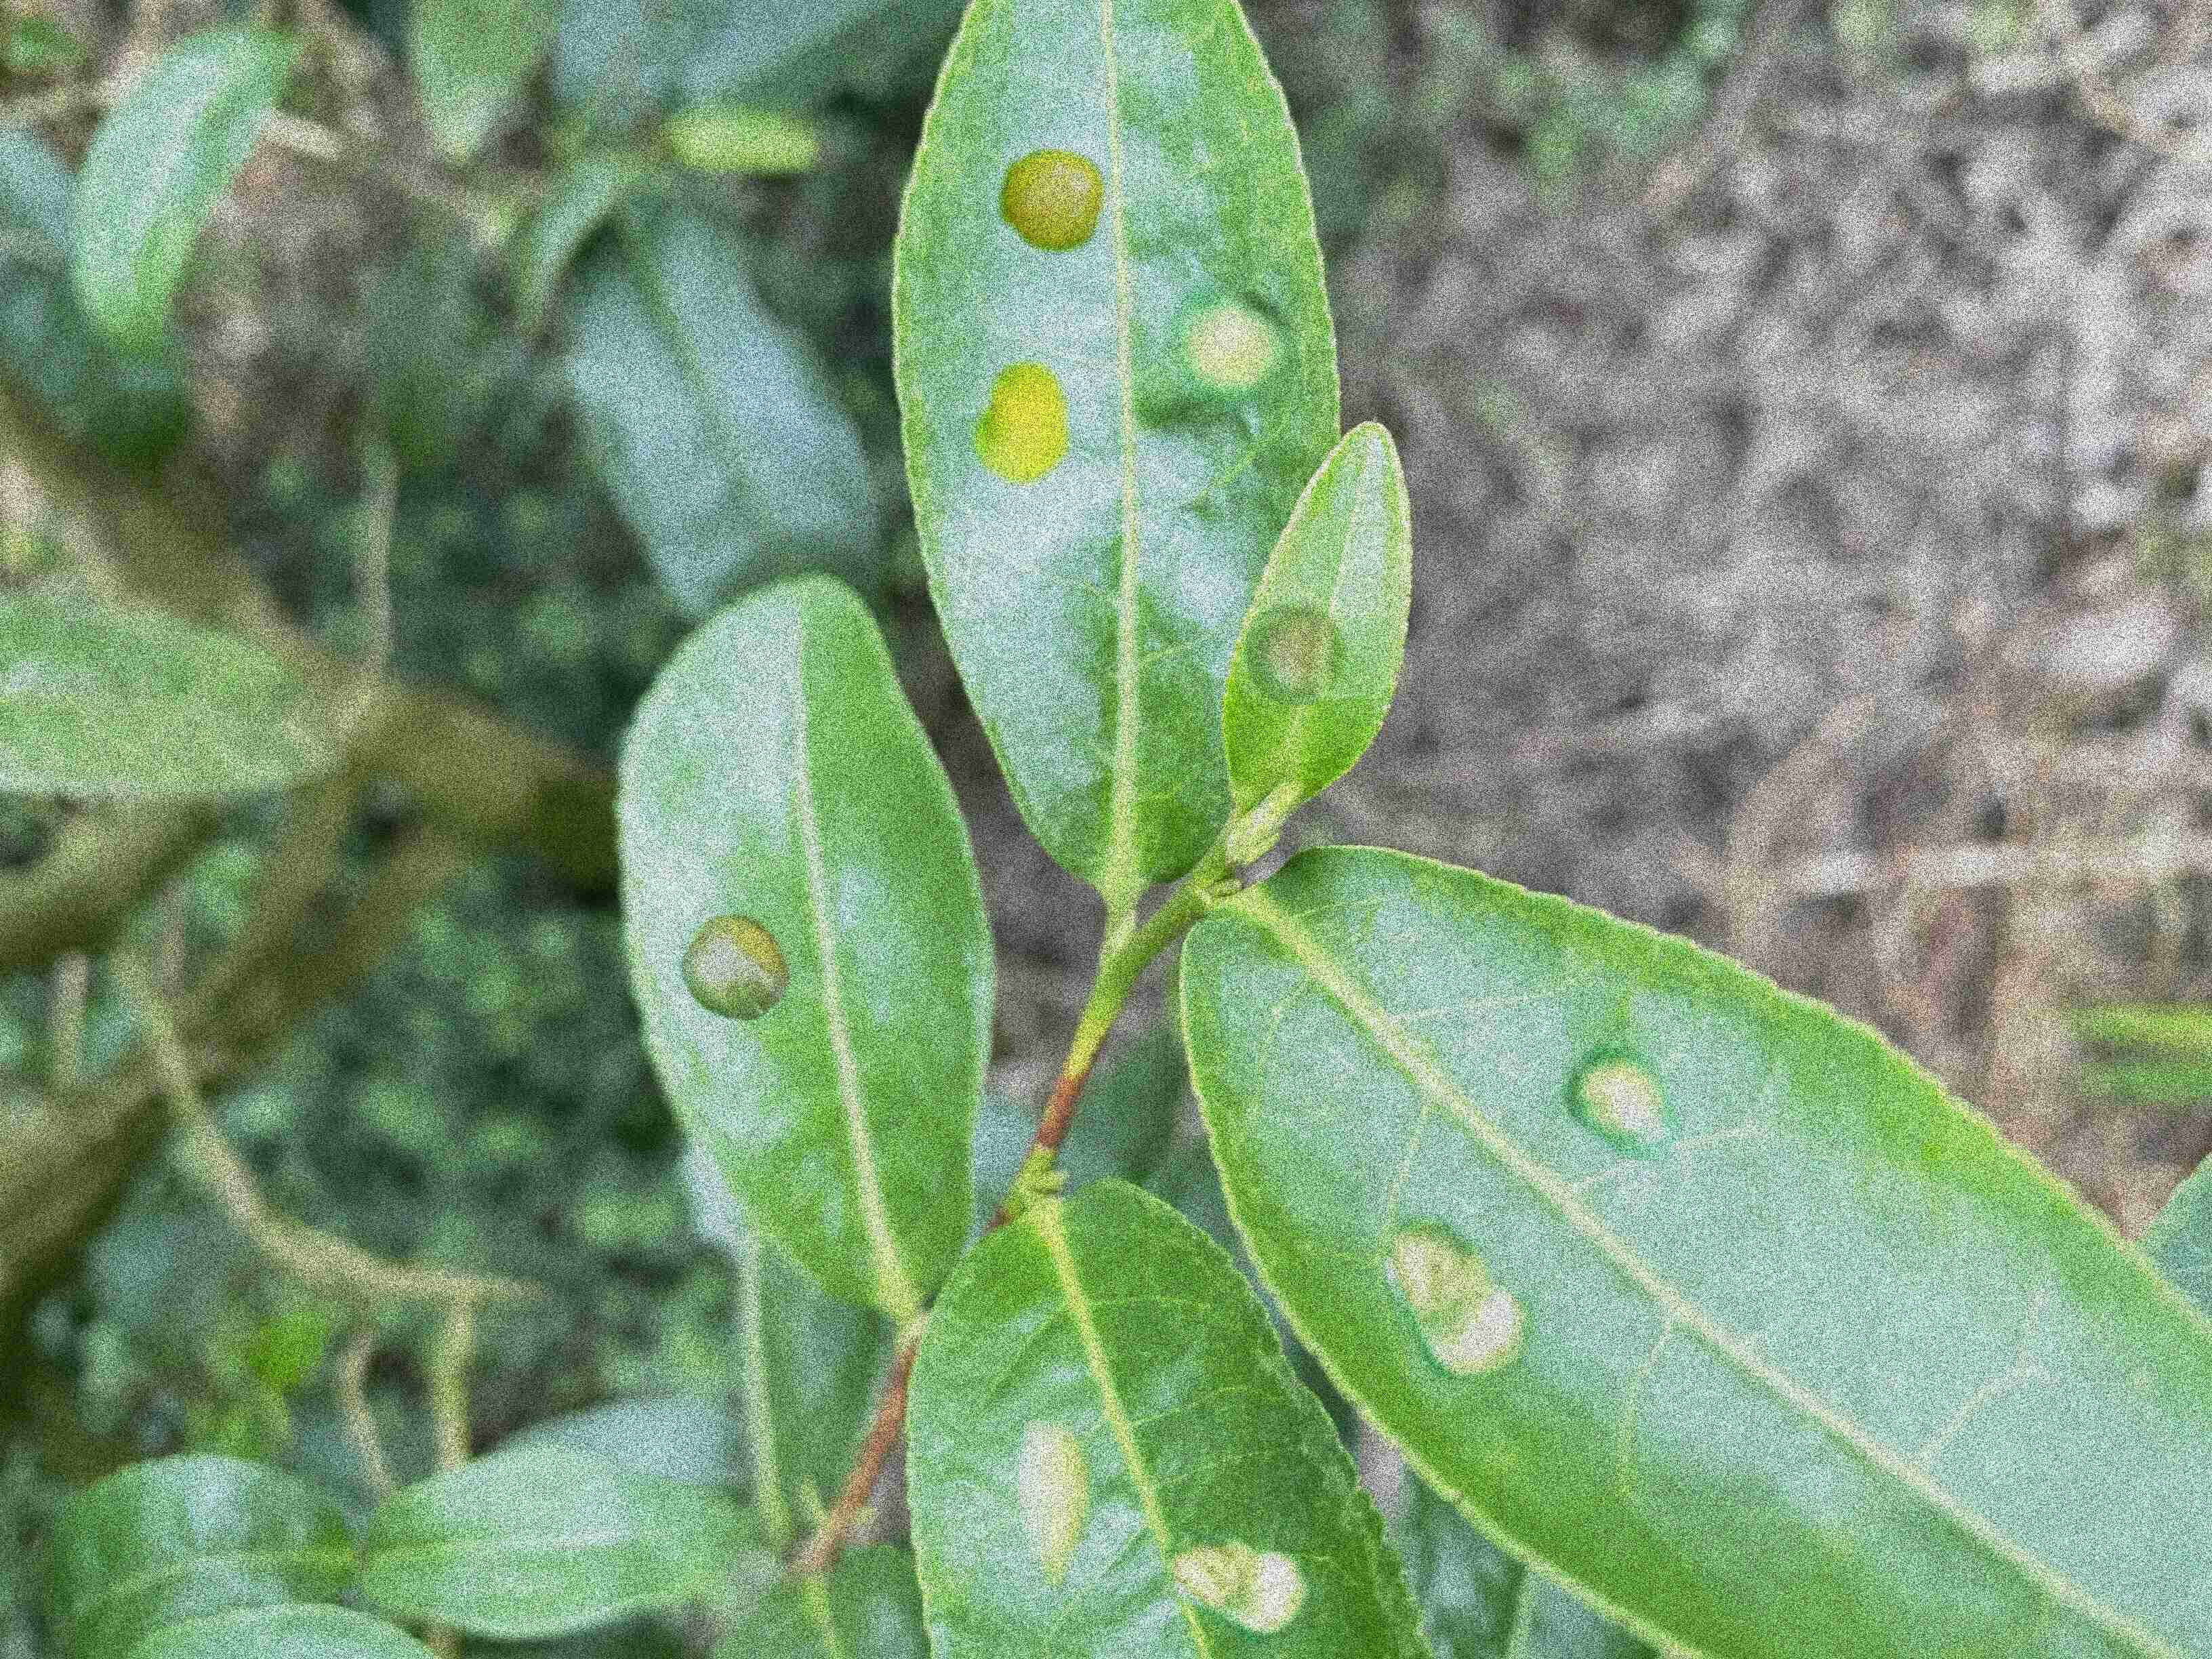chabing_high: (1181, 842, 2210, 1657), (894, 3, 1341, 890), (900, 1176, 1430, 1657)
chabing_low: (615, 573, 1003, 1312), (1223, 416, 1418, 816)
